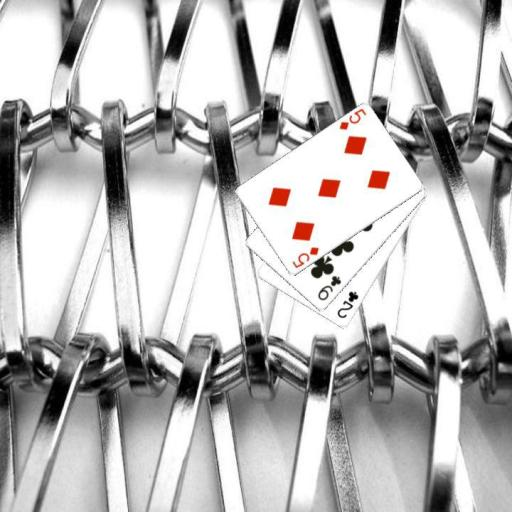2C: (333, 288, 360, 320)
5D: (336, 105, 368, 132), (289, 244, 321, 270)
9C: (314, 273, 343, 303)
